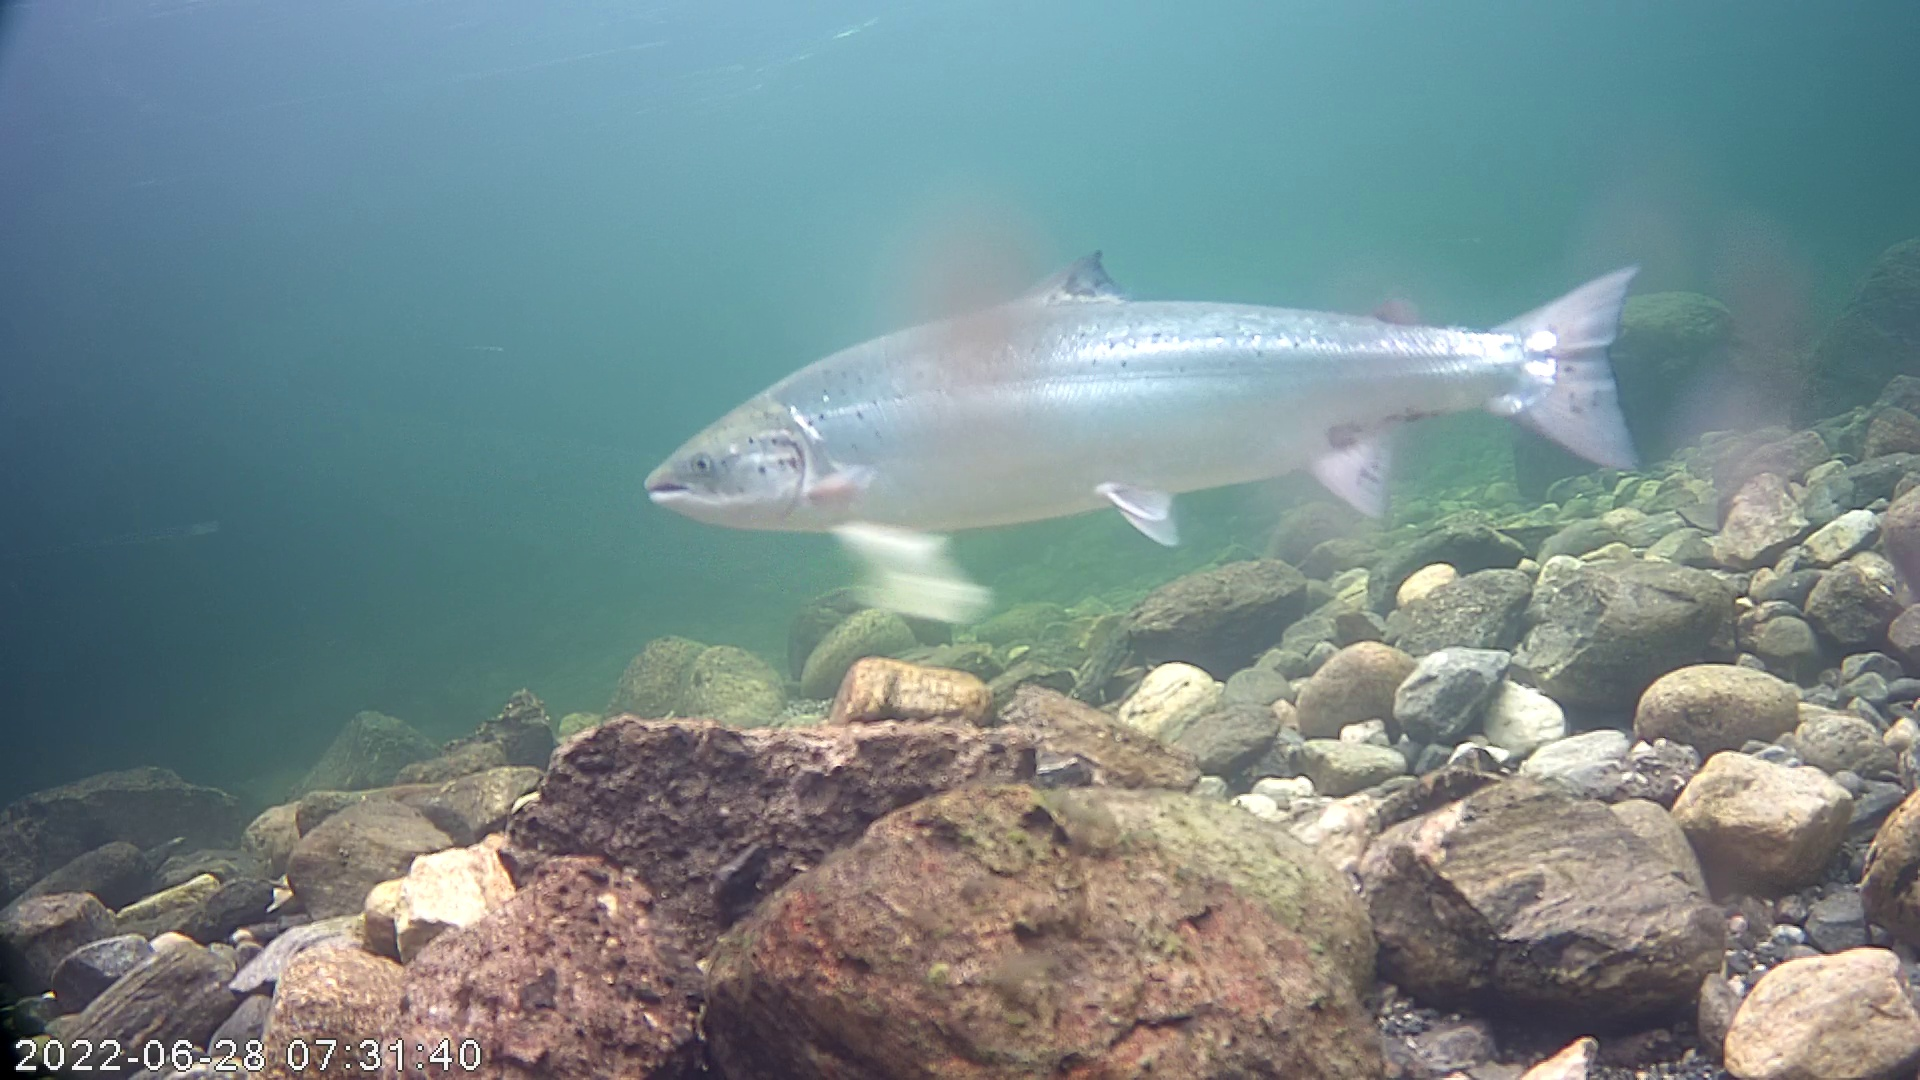salmon: (634, 138, 1687, 615)
